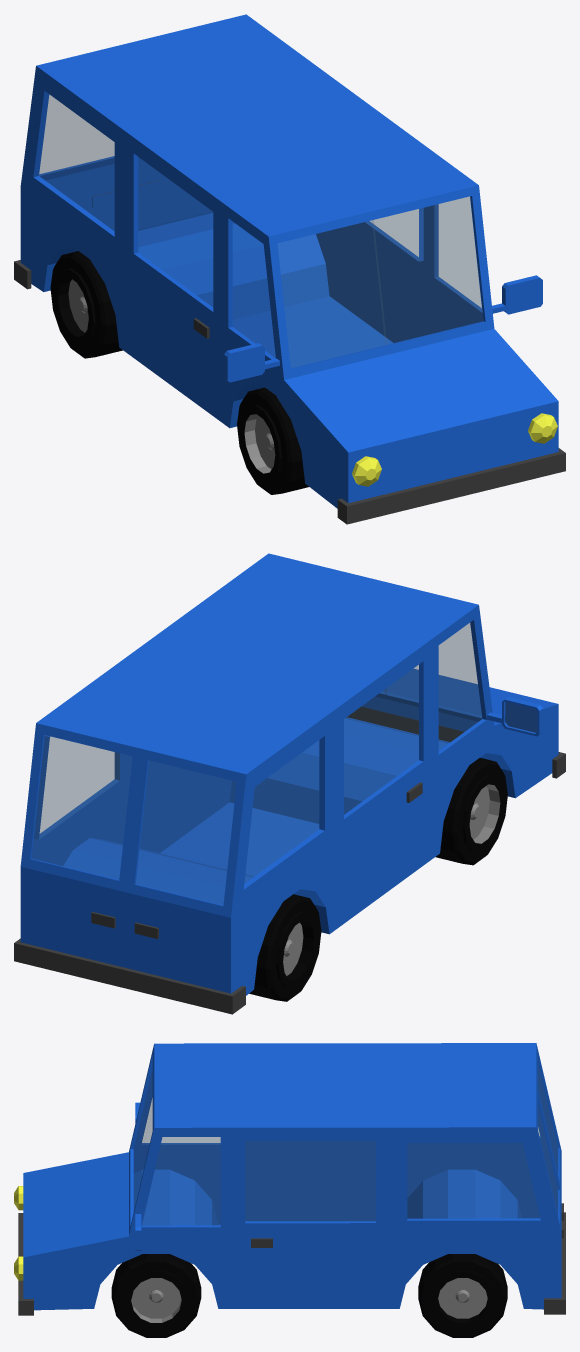
Rendered from car.gltf.
The picture shows the model from 3 angles, top to bottom: view 1: azimuth 30°, elevation 25°; view 2: azimuth 150°, elevation 25°; view 3: azimuth 270°, elevation 25°; orthographic projection. The views are drawn at different scales.
Parts seen in each view (by area): view 1: Car; view 2: Car; view 3: Car.
Boxes of the visible parts, x1,y1,x2,y2 form: Car: (14,14,565,524); Car: (14,553,565,1014); Car: (14,1043,565,1337).
Size of the model in its own units: 7.42 by 5.74 by 13.69.
